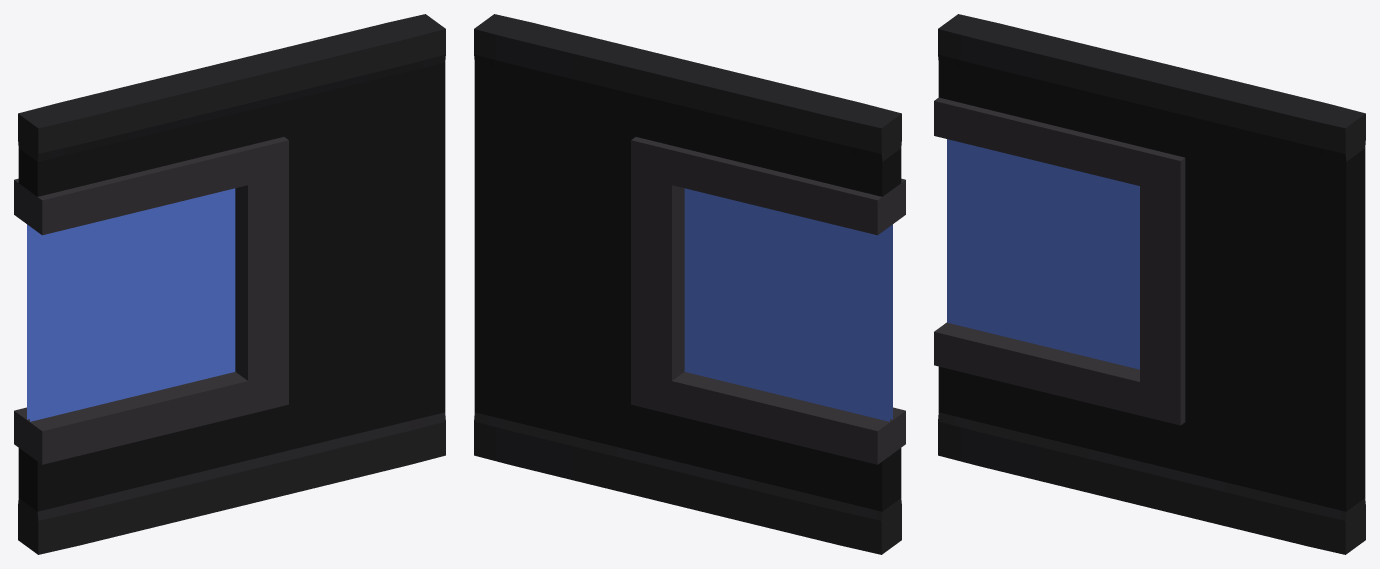
The model's file is Wall_Window_Corner.fbx.
The picture shows the model from 3 angles, left to right: view 1: azimuth 30°, elevation 25°; view 2: azimuth 150°, elevation 25°; view 3: azimuth 330°, elevation 25°; orthographic projection.
Visible parts, largest first — view 1: polySurface23; view 2: polySurface23; view 3: polySurface23.
Boxes of the visible parts, left/top/right/bottom form: polySurface23: left=14, top=14, right=445, bottom=554; polySurface23: left=474, top=14, right=905, bottom=554; polySurface23: left=934, top=14, right=1365, bottom=554.
Size of the model in its own units: 500 by 500 by 59.92.
